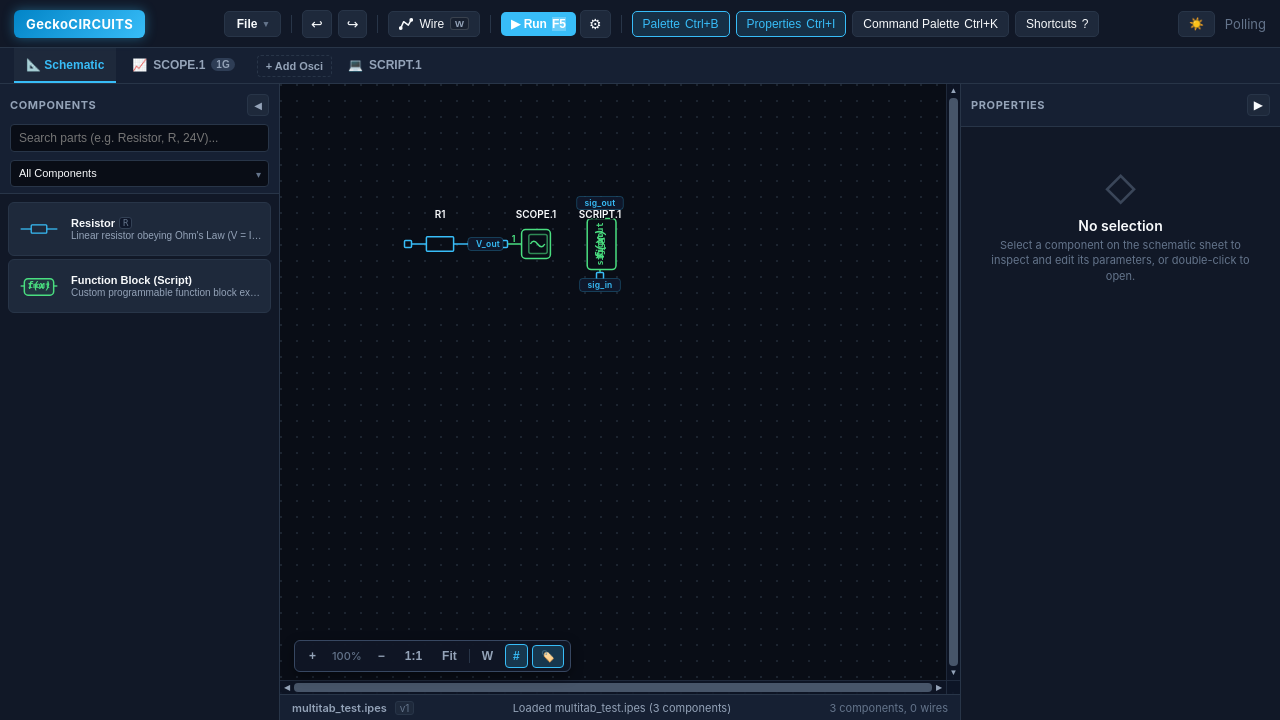
Scenario: Multi-Tab Workspace & Unified Simulation Setup › opens simulation setup modal via gear icon
Check: the text "multitab_test.ipes" is shown, box [292,700,387,714]
Step 1. Click the button named "Simulation Parameters Setup" → click(595, 24), box [580,10,611,38]
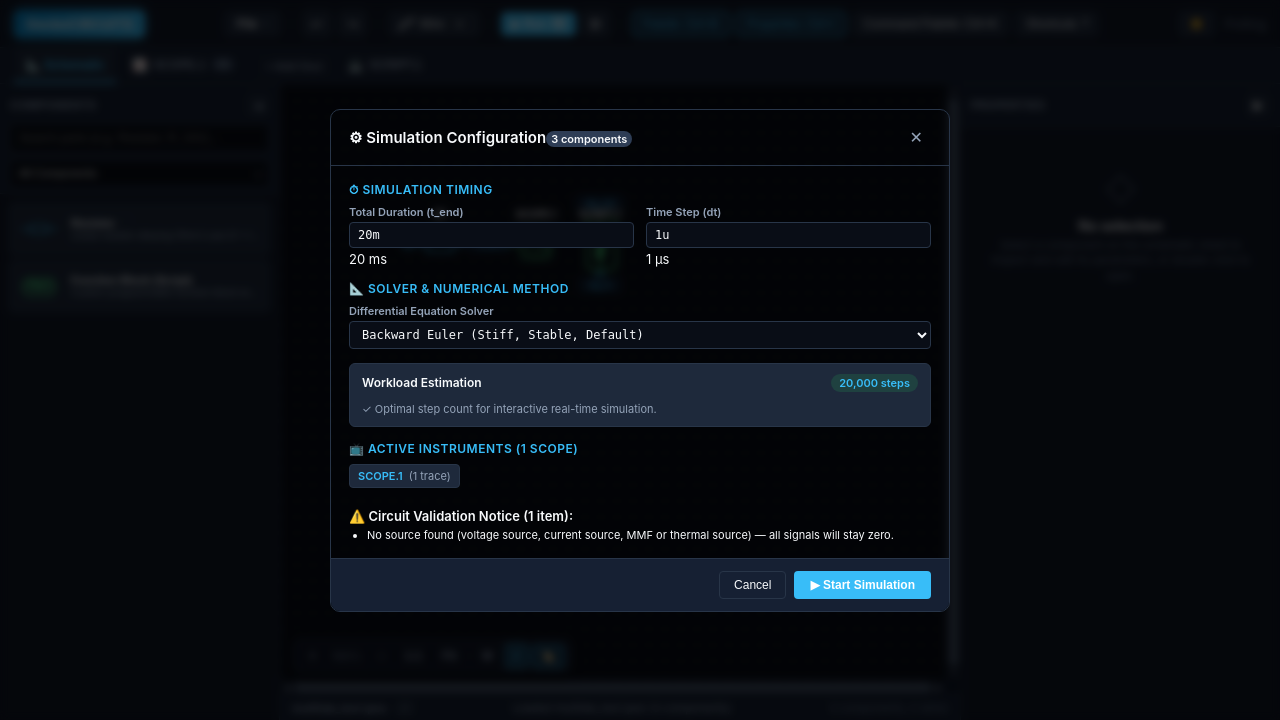
Check: the text "⚙ Simulation Configuration" is shown, box [349,128,546,146]
Check: the field labelled "Total Duration (t_end)" is shown, box [349,222,634,248]
